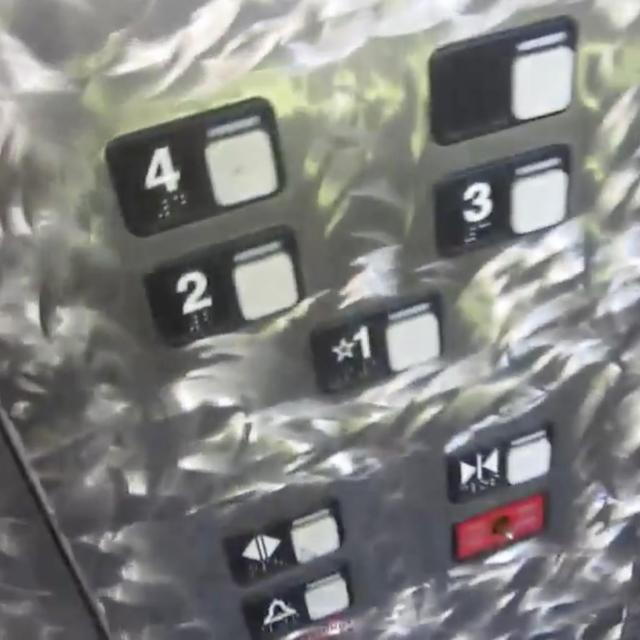2: (138, 218, 308, 353)
3: (429, 139, 577, 261)
4: (101, 92, 287, 240)
alarm: (240, 560, 356, 640)
bt_switch: (448, 488, 554, 570)
close: (444, 418, 558, 506)
empty: (422, 10, 580, 148)
open: (220, 494, 346, 588)
s1: (305, 284, 446, 400)
